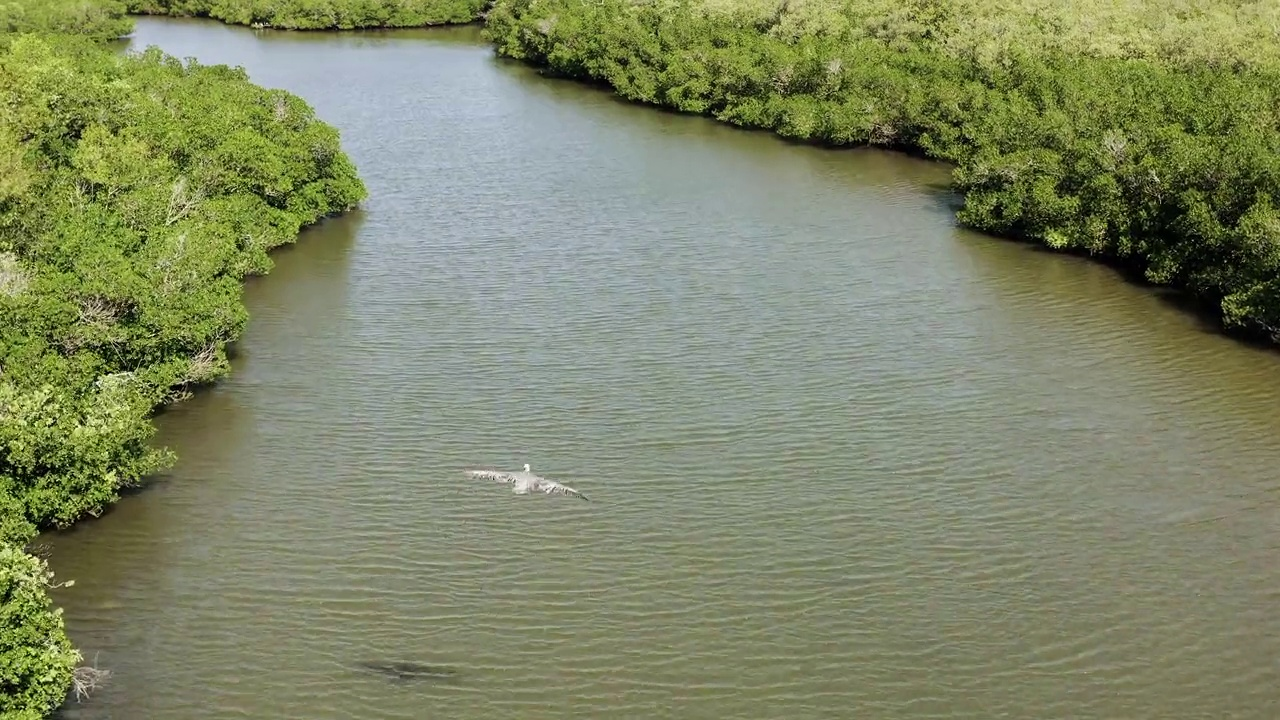bird: (465, 464, 592, 503)
